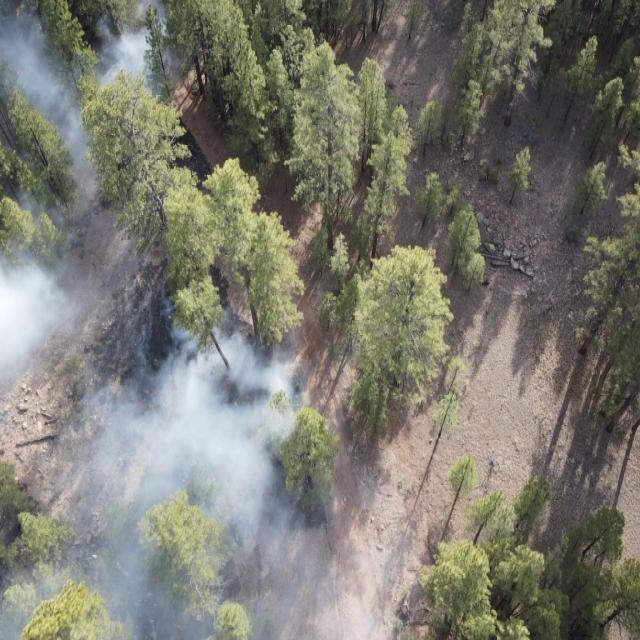fire: (12, 8, 22, 20)
smoke: (0, 322, 345, 640), (0, 174, 161, 402), (0, 0, 188, 174)
